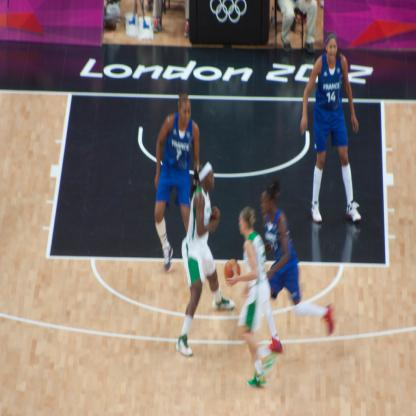Ball: (224, 260, 241, 282)
